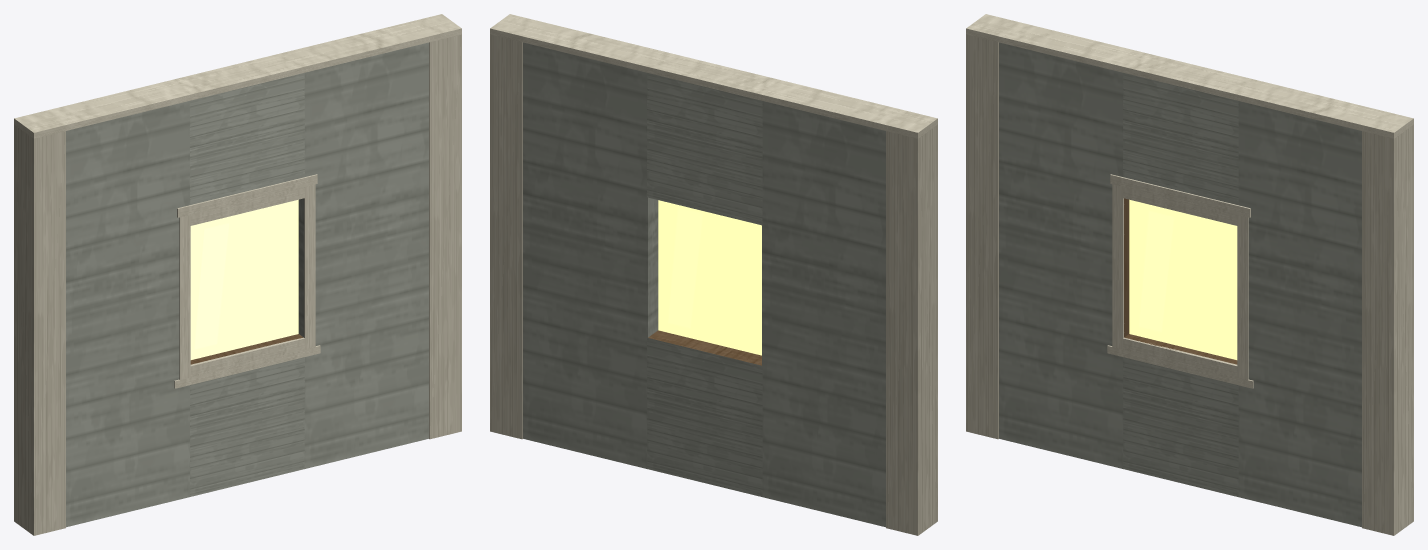
The model's file is house_wall_window.glb.
The picture shows the model from 3 angles, left to right: view 1: azimuth 30°, elevation 25°; view 2: azimuth 150°, elevation 25°; view 3: azimuth 330°, elevation 25°; orthographic projection.
Visible parts, largest first — view 1: outdoor_house_wall_window; view 2: outdoor_house_wall_window; view 3: outdoor_house_wall_window.
Boxes of the visible parts, left/top/right/bottom form: outdoor_house_wall_window: left=14, top=14, right=461, bottom=535; outdoor_house_wall_window: left=490, top=14, right=937, bottom=535; outdoor_house_wall_window: left=966, top=14, right=1413, bottom=535.
Size of the model in its own units: 3 by 2.7 by 0.24.
Materials: 2 (2 with a texture image).
